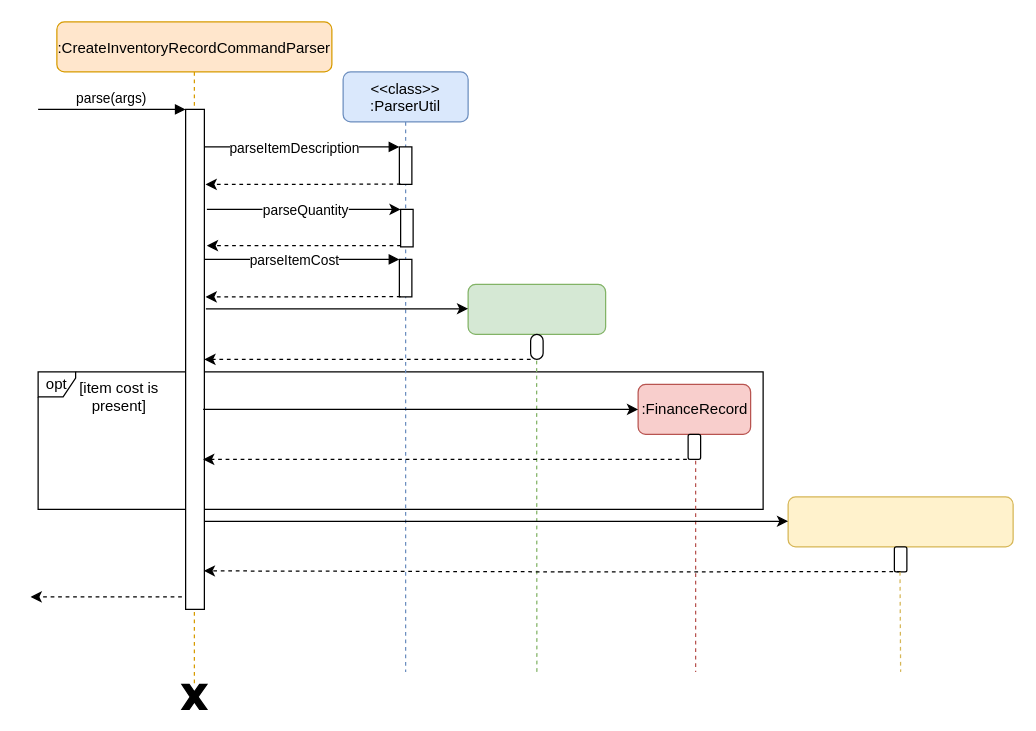
Image size: 1036x731. Some labels were removed from this diagram. The centre of each missing label's shape, as x and y in pixels:
":CreateInventoryRecordCommand" belongs at pixel 900 521.
":InventoryRecord" belongs at pixel 536 308.
